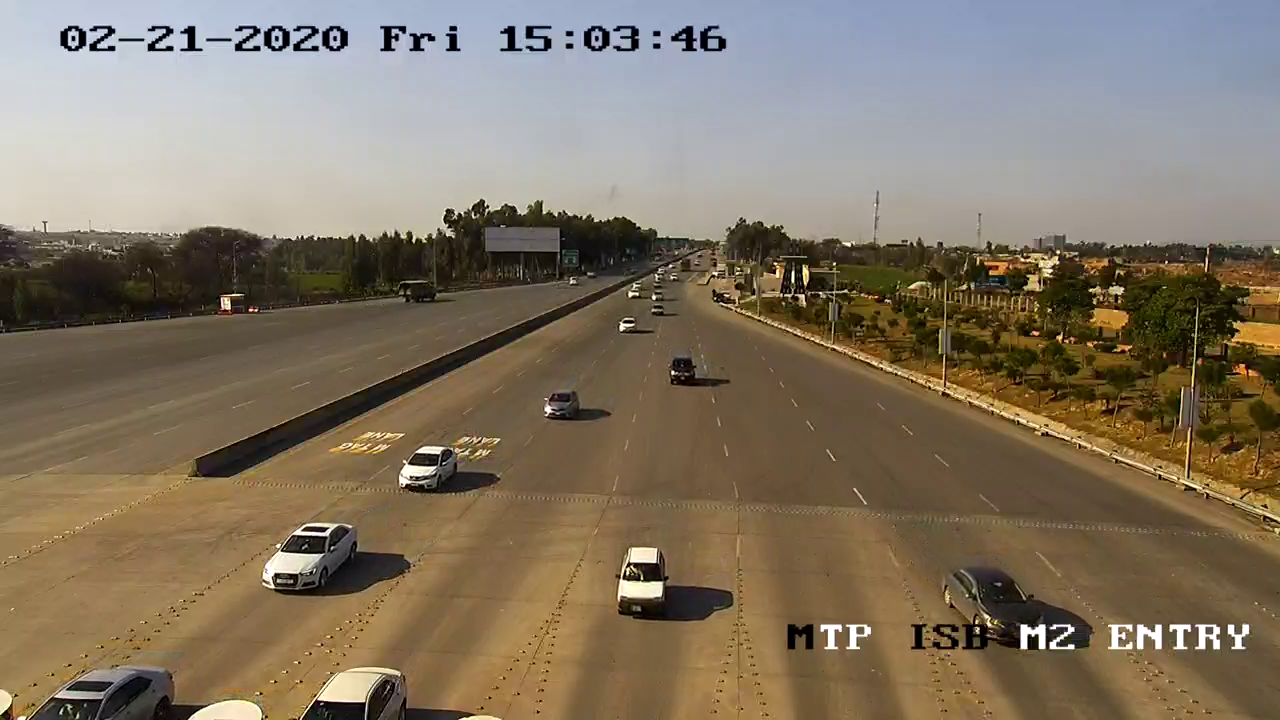f1: (252, 511, 368, 598), (934, 554, 1052, 639), (600, 541, 679, 620), (390, 440, 468, 495), (536, 380, 585, 429), (662, 346, 703, 391)
